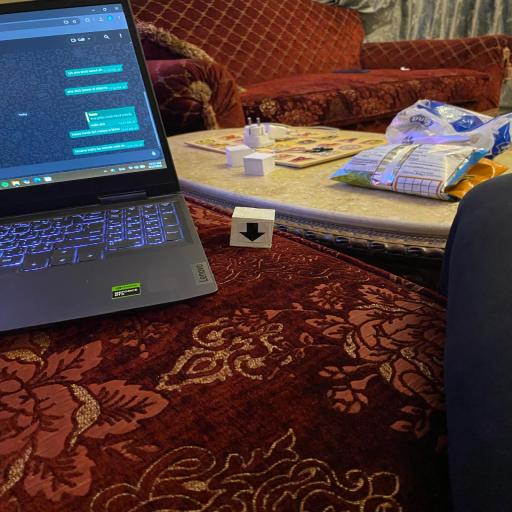Down: (229, 206, 277, 248)
